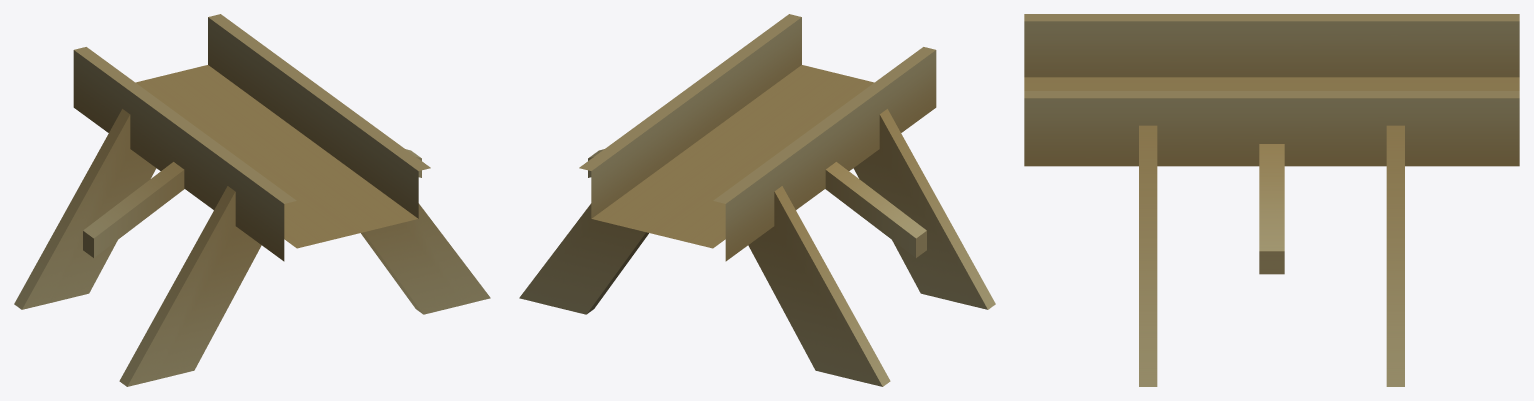
Rendered from aquaduct_piped2.glb.
The picture shows the model from 3 angles, left to right: view 1: azimuth 30°, elevation 25°; view 2: azimuth 150°, elevation 25°; view 3: azimuth 270°, elevation 25°; orthographic projection. The views are drawn at different scales.
Parts seen in each view (by area): view 1: AquaductPiped2; view 2: AquaductPiped2; view 3: AquaductPiped2.
Part boxes in pixels (left/top/right/bottom): AquaductPiped2: left=14, top=14, right=490, bottom=386; AquaductPiped2: left=519, top=14, right=995, bottom=386; AquaductPiped2: left=1024, top=14, right=1519, bottom=386.
Bounding box in the file's own units: 2 × 1.01 × 2.
Materials: 1 (1 with a texture image).
